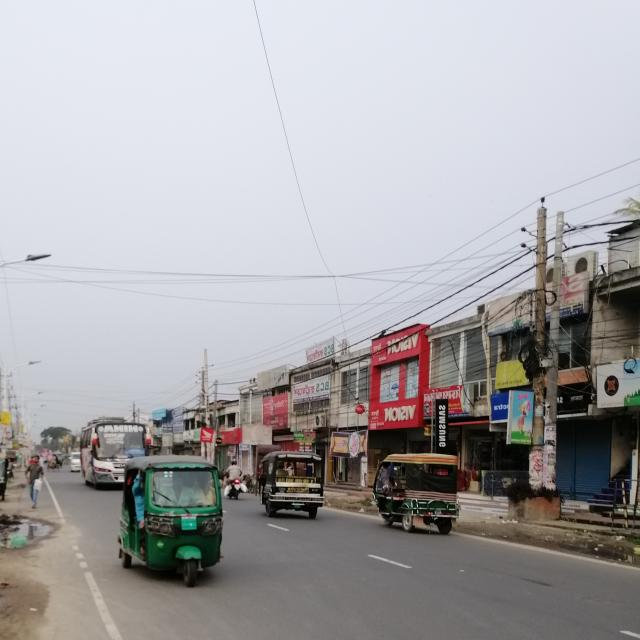Bus: (64, 391, 163, 503)
CNG: (82, 438, 241, 608)
Easybike: (346, 445, 479, 553), (241, 428, 344, 525)
